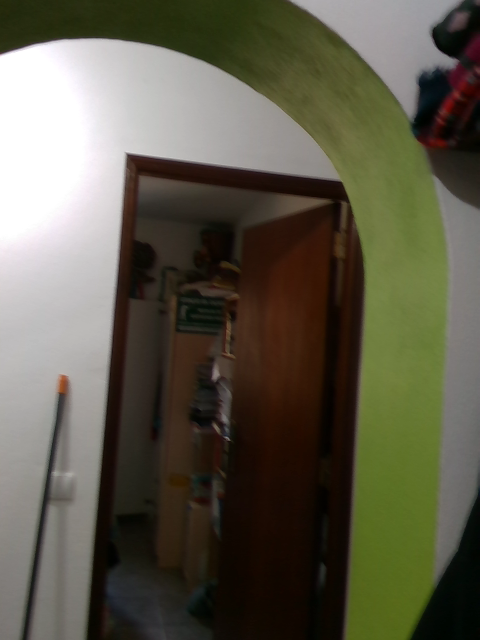open: (76, 151, 357, 639)
